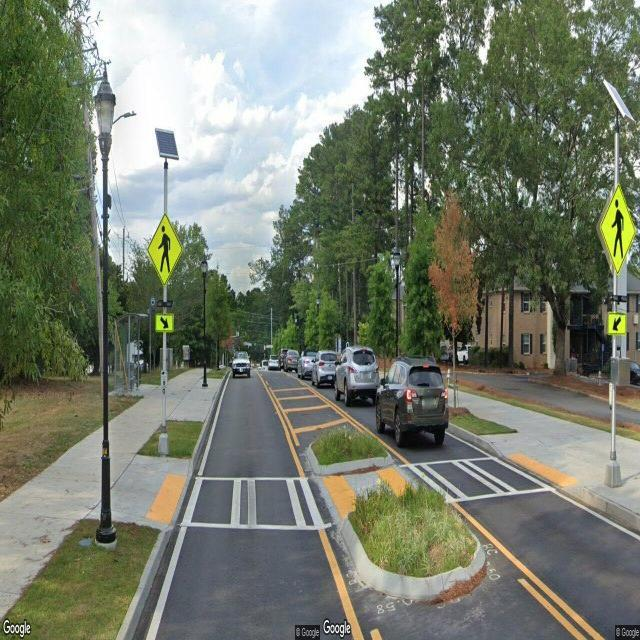seating: (126, 376, 135, 392)
shelter: (111, 313, 149, 401)
trash_can: (128, 362, 134, 389)
